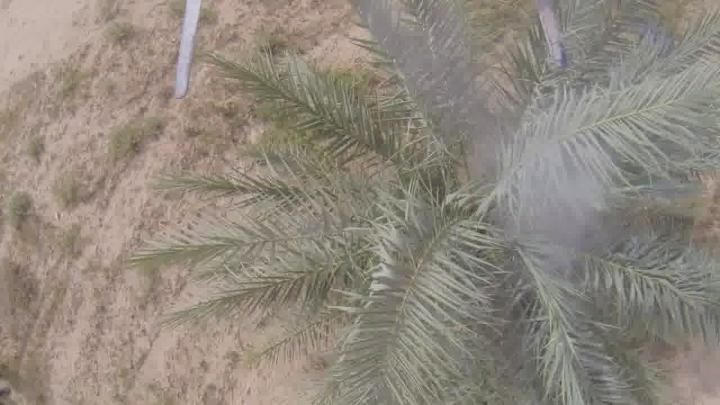Date-Palm-Crown: (322, 32, 672, 352)
